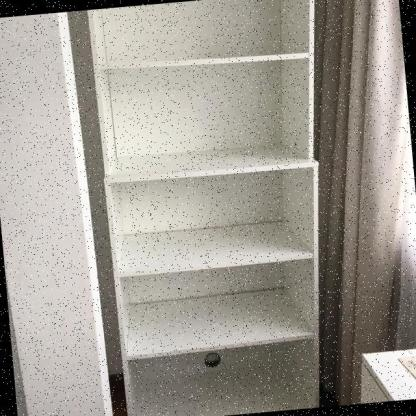Shelf: (82, 0, 354, 416)
